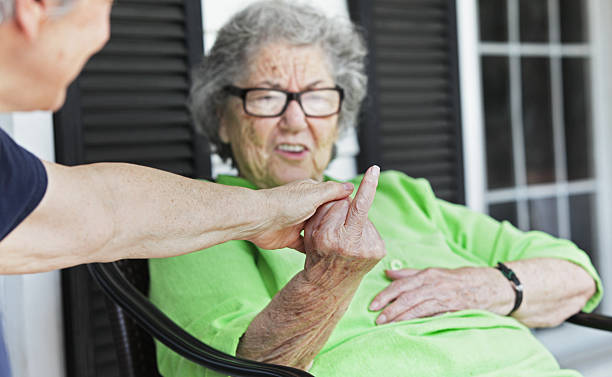insulting_gesture: (305, 163, 386, 279)
